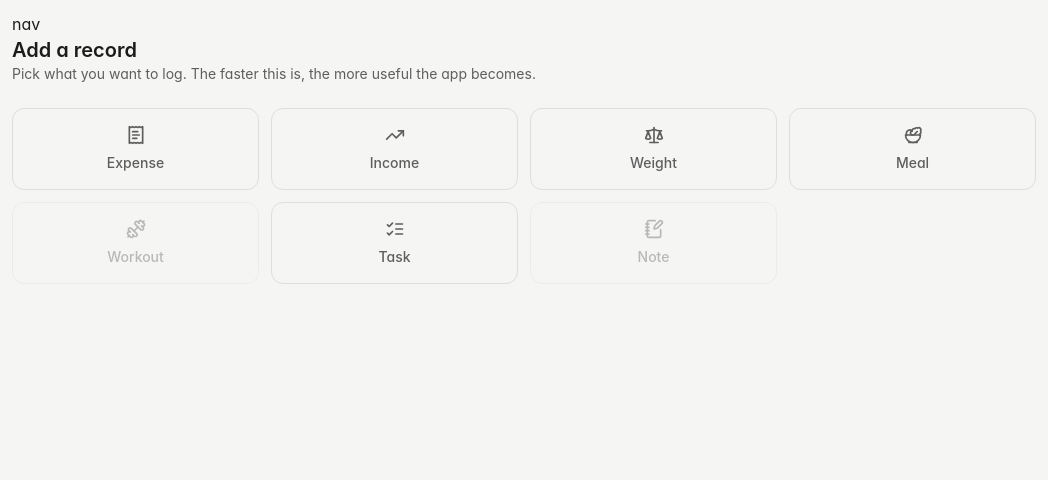
Test: QuickAddPage › al elegir un tipo navega a su ruta
The image size is (1048, 480).
Click the button "Weight".
click(654, 149)  # box left=530, top=108, right=777, bottom=190
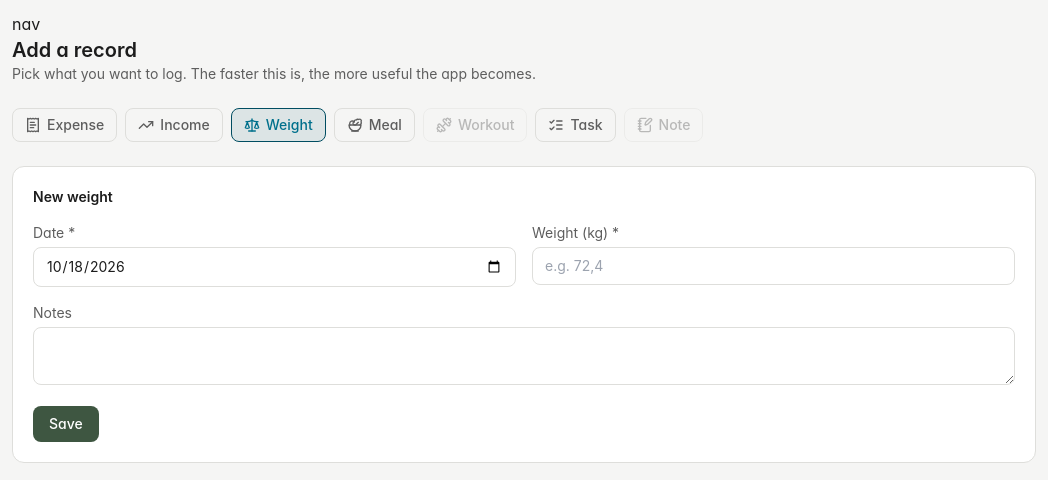
Expected: the text "New weight" is shown, left=33, top=187, right=113, bottom=207
